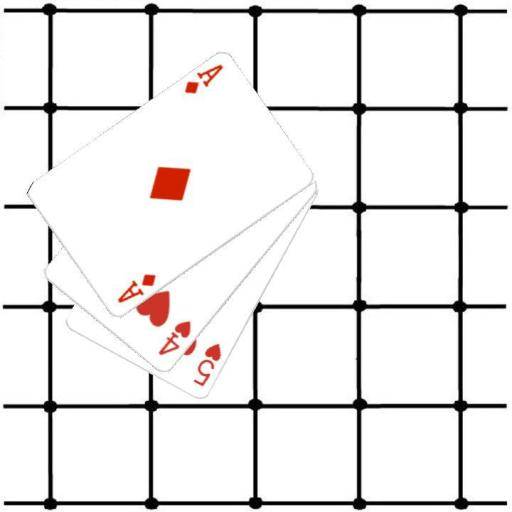4H: (155, 318, 193, 358)
5H: (190, 341, 223, 388)
AD: (181, 61, 225, 96), (114, 271, 158, 305)
